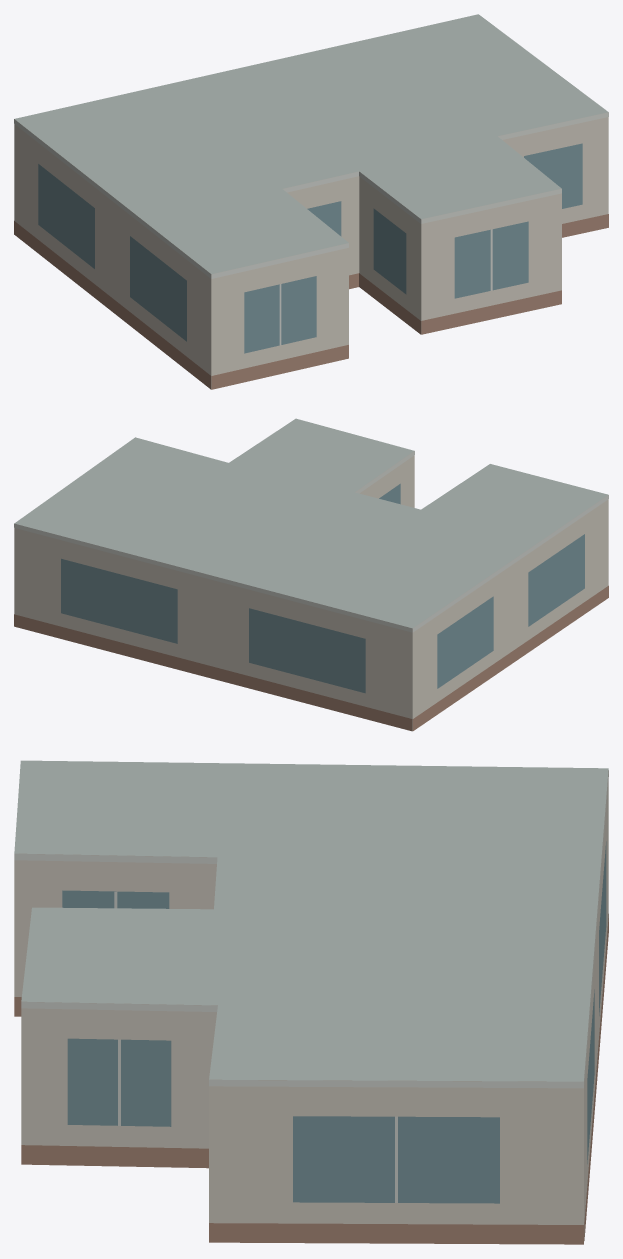
File: survey-upis-32638074.glb
The picture shows the model from 3 angles, top to bottom: view 1: azimuth 30°, elevation 25°; view 2: azimuth 150°, elevation 25°; view 3: azimuth 270°, elevation 25°; orthographic projection. The views are drawn at different scales.
Visible parts, largest first — view 1: survey-upis-32638074.tmp; view 2: survey-upis-32638074.tmp; view 3: survey-upis-32638074.tmp.
Boxes of the visible parts, <box> form: survey-upis-32638074.tmp: <box>14,14,608,389</box>; survey-upis-32638074.tmp: <box>14,418,608,731</box>; survey-upis-32638074.tmp: <box>14,760,608,1244</box>.
Size of the model in its own units: 12.92 by 3.05 by 10.11.
